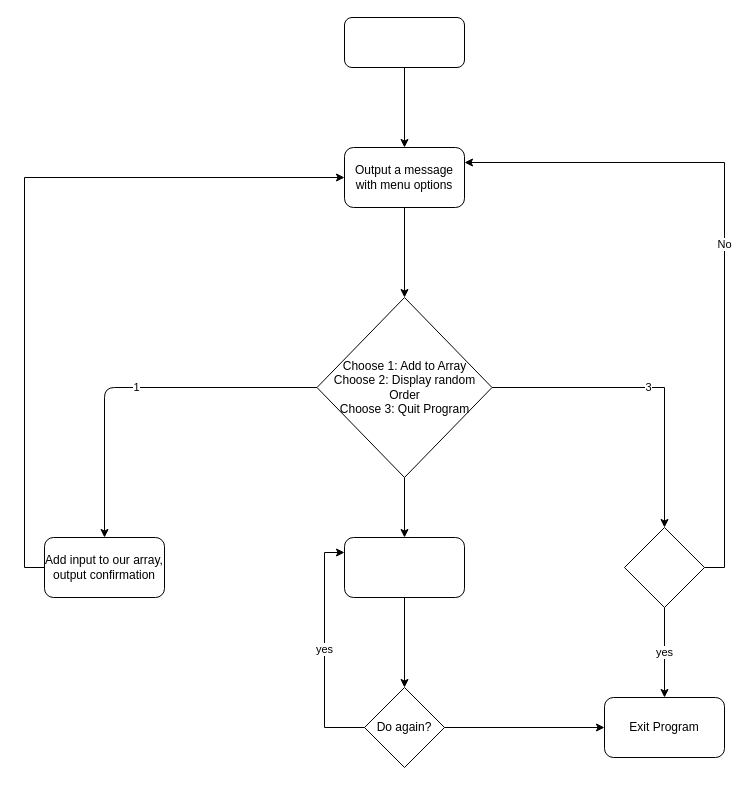
Image size: 750x785. Some labels were removed from this diagram. The centre of each missing label's shape, as x and y in pixels:
"Are you sure?" belongs at pixel 664 567.
"Create Empty Array" belongs at pixel 404 42.
"Loop through the array, with random order" belongs at pixel 404 567.
